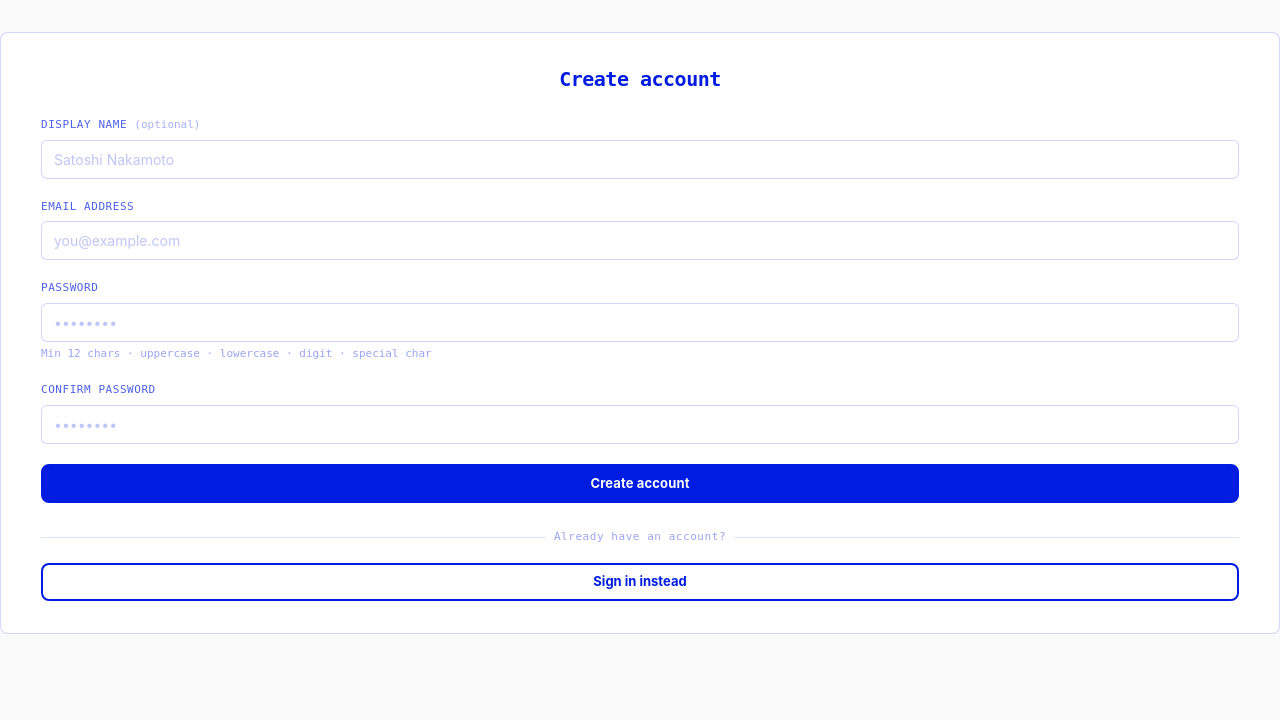
Scenario: SignupPage › Validation › shows error when email format is invalid
Step 1. Type "invalid-email" into the field labelled "Email address" → [640, 240], box [41,221,1239,260]
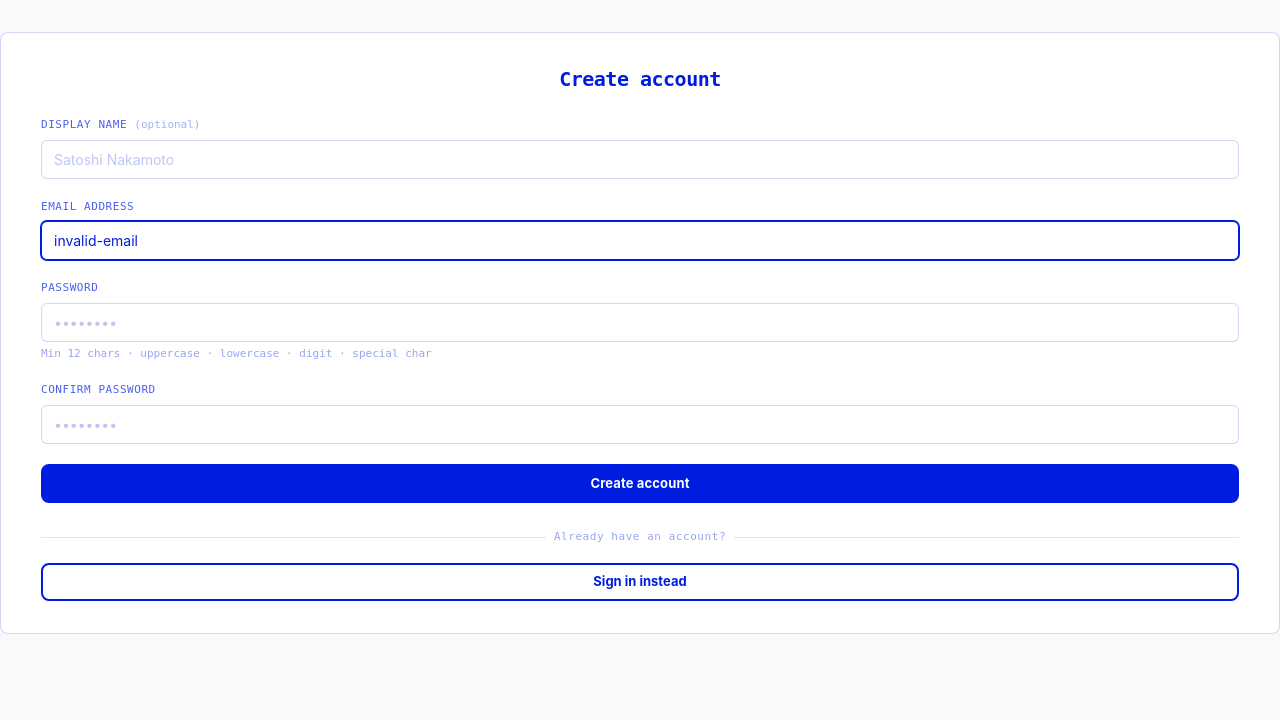
Step 2. Type "ValidPass123!" into the password field labelled "Password" → [640, 322], box [41,302,1239,342]
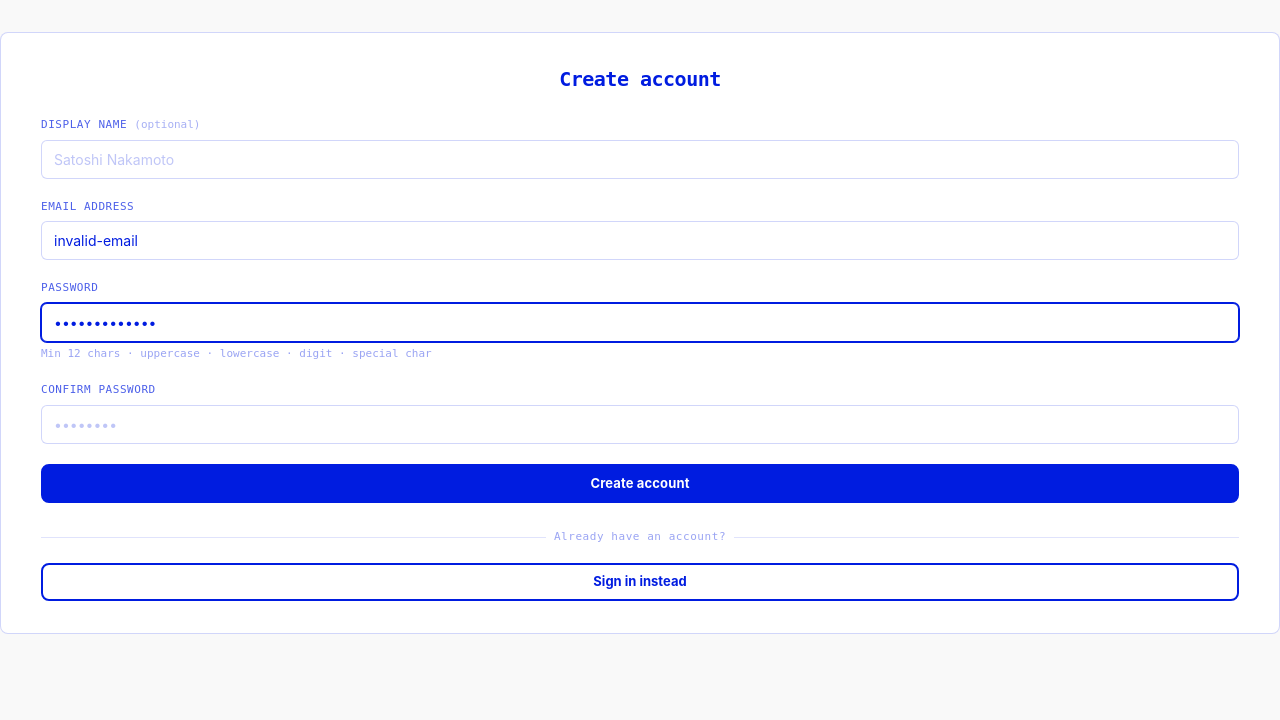
Step 3. Type "ValidPass123!" into the password field labelled "Confirm password" → [640, 424], box [41,404,1239,444]
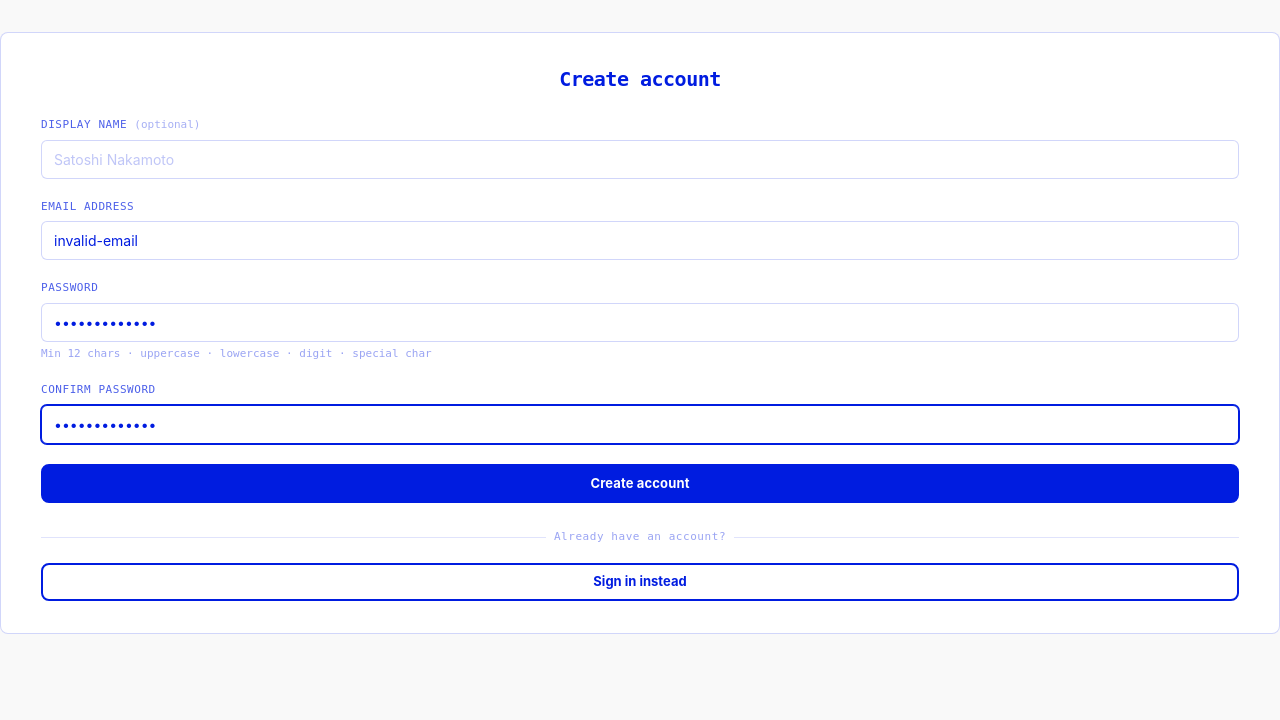
Step 4. Click the button "Create account" → [640, 483], box [41,464,1239,503]
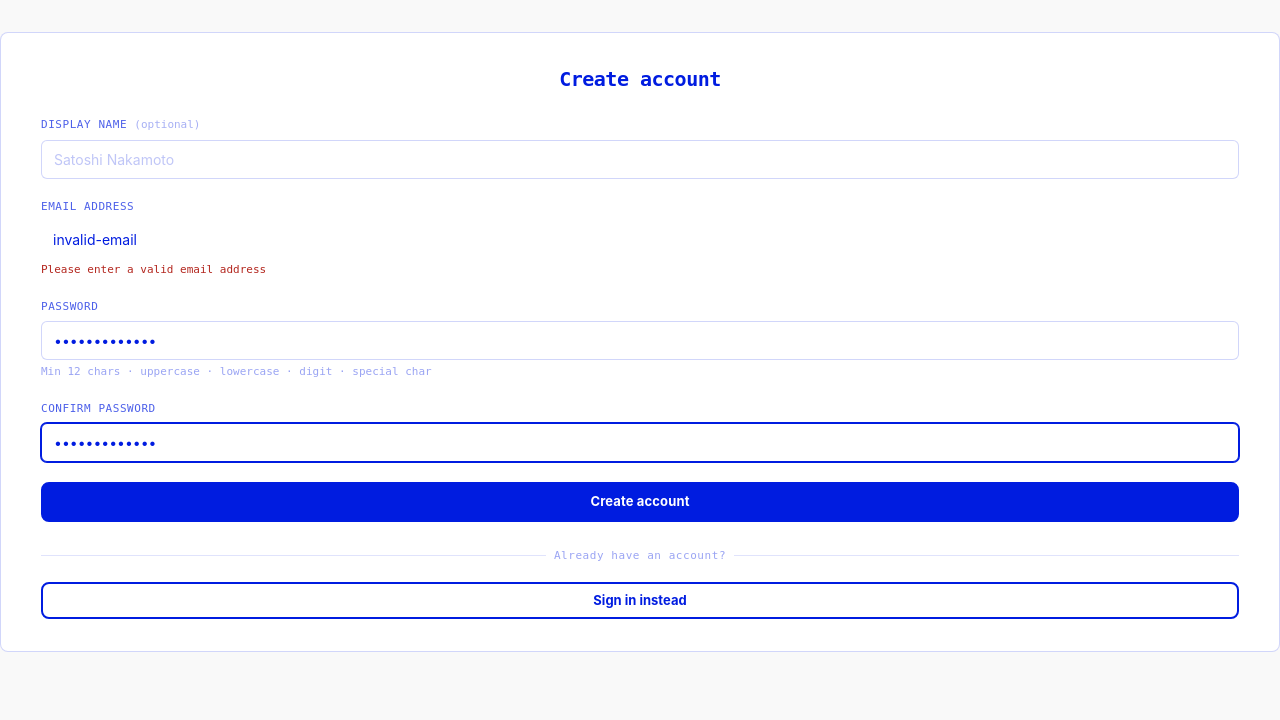
Expected: the text "Please enter a valid email address" is shown, [41,263,266,276]
